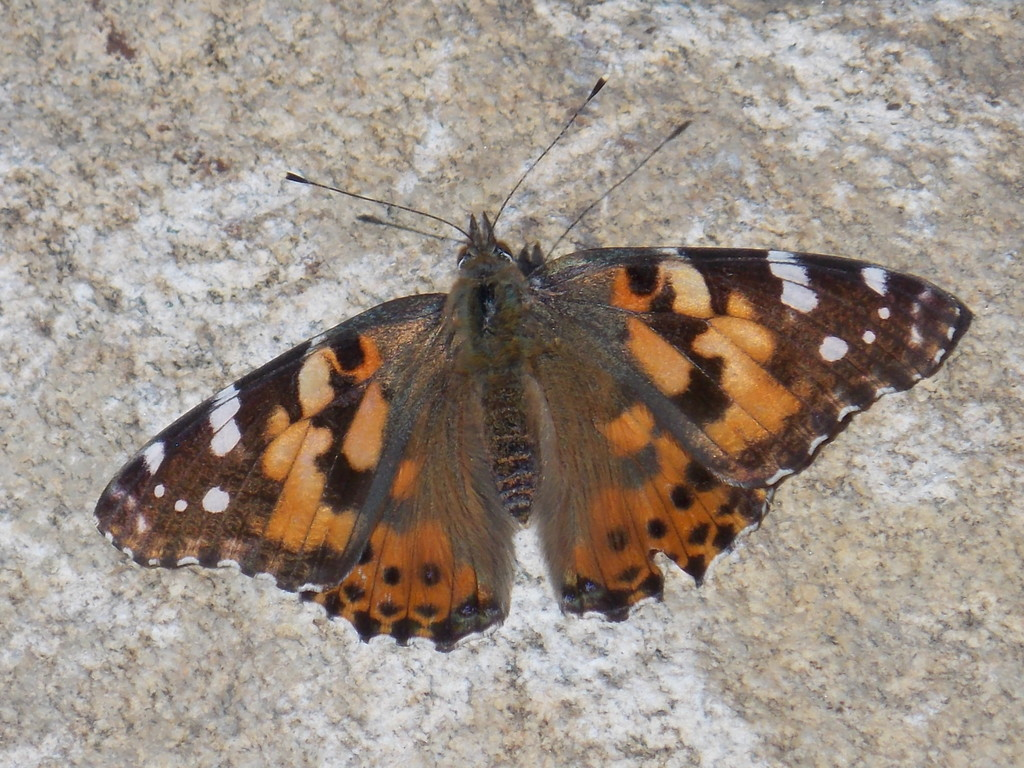Butterfly: (82, 180, 994, 639)
